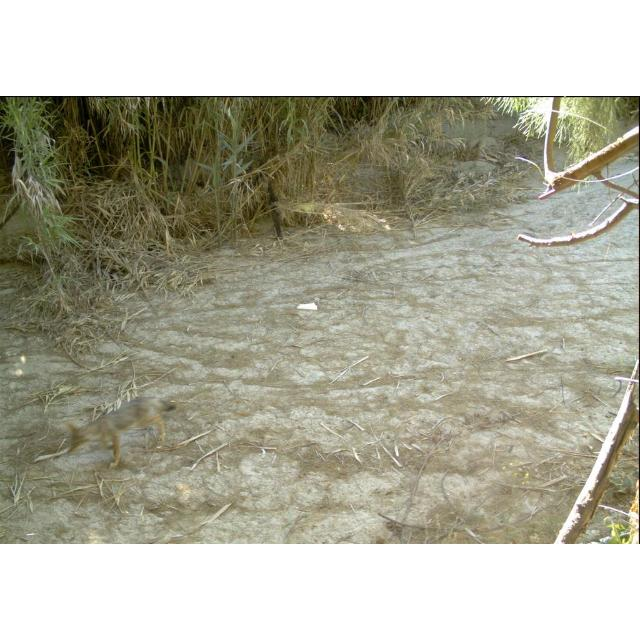animals: (66, 396, 176, 468)
